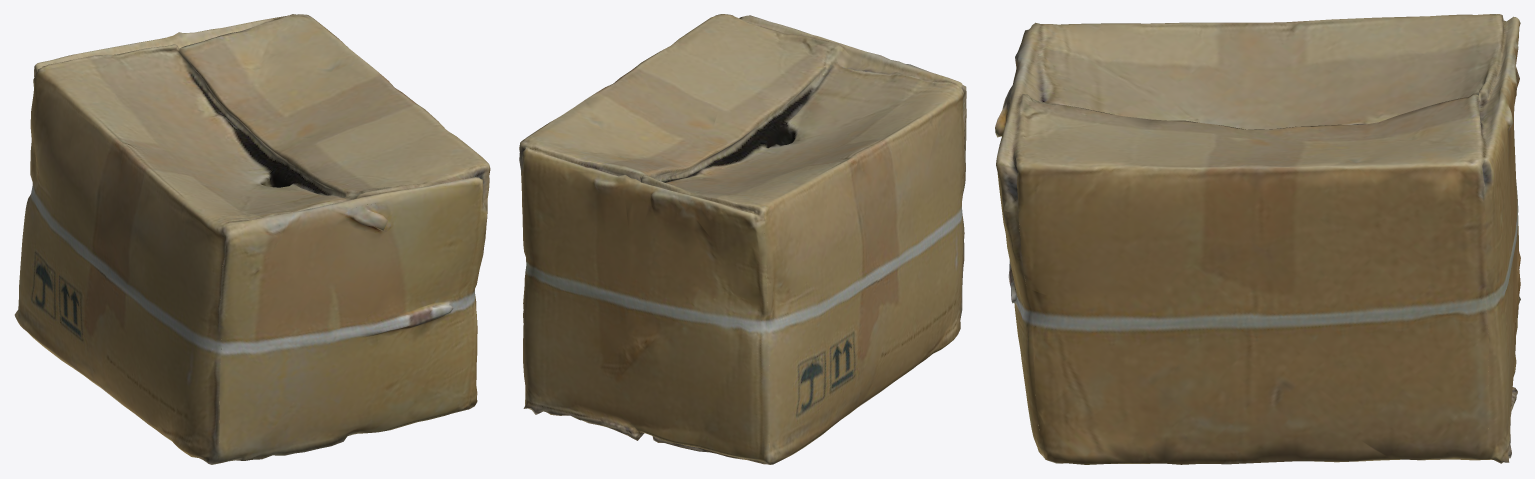
Rendered from distance.fbx.
3 renders of one model, left to right at view 1: azimuth 30°, elevation 25°; view 2: azimuth 150°, elevation 25°; view 3: azimuth 270°, elevation 25°, orthographic. The views are drawn at different scales.
Parts seen in each view (by area): view 1: cardboard_box_01; view 2: cardboard_box_01; view 3: cardboard_box_01.
Boxes of the visible parts, box(x1,y1,x2,y2) form: cardboard_box_01: box(14, 14, 490, 464); cardboard_box_01: box(519, 14, 966, 464); cardboard_box_01: box(995, 14, 1520, 464).
Bounding box in the file's own units: 38.72 × 34.18 × 51.59.
